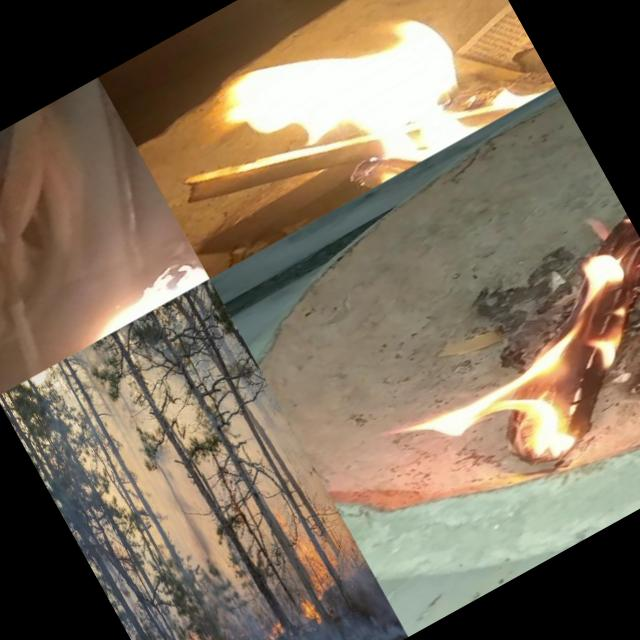fire: (353, 237, 640, 524), (201, 0, 556, 231), (43, 224, 210, 354), (266, 488, 337, 596), (288, 578, 324, 622), (255, 611, 291, 640), (386, 628, 408, 640)
smoke: (232, 377, 380, 603), (63, 494, 181, 640), (309, 586, 403, 640), (263, 572, 321, 640)
